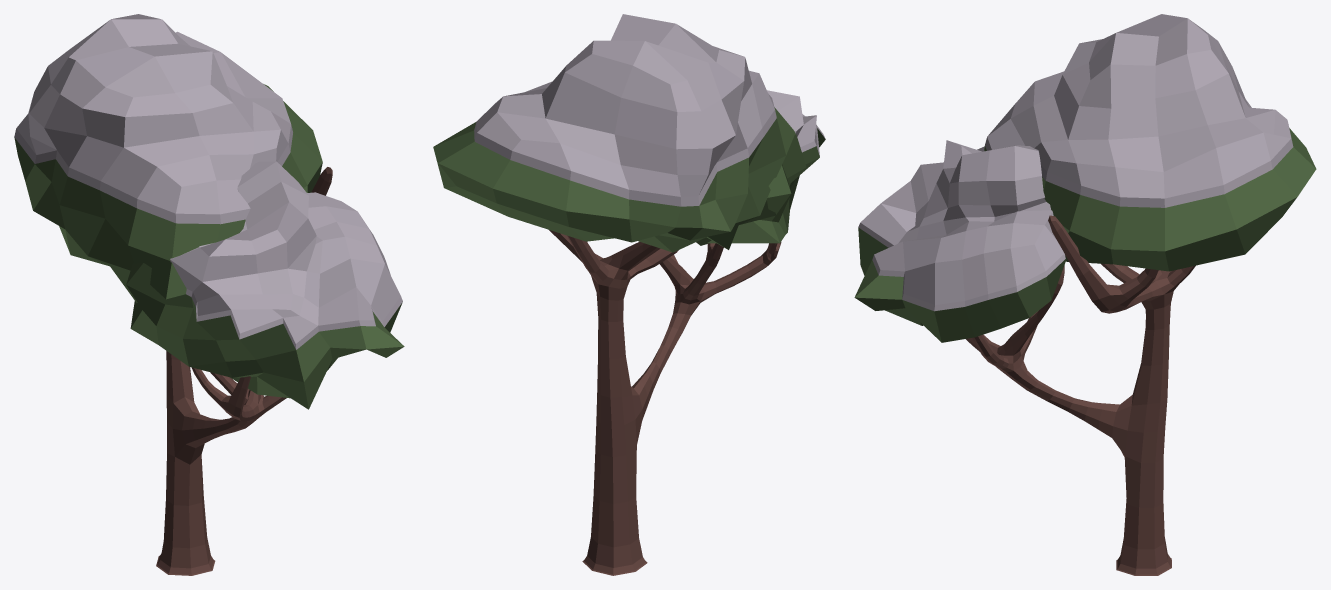
Rendered from CommonTree_Snow_2.gltf.
The picture shows the model from 3 angles, left to right: view 1: azimuth 30°, elevation 25°; view 2: azimuth 150°, elevation 25°; view 3: azimuth 270°, elevation 25°; orthographic projection. The views are drawn at different scales.
Visible parts, largest first — view 1: CommonTree_Snow_2; view 2: CommonTree_Snow_2; view 3: CommonTree_Snow_2.
Part boxes in pixels (box(x1,y1,x2,y2)): CommonTree_Snow_2: box(14, 14, 404, 575); CommonTree_Snow_2: box(433, 14, 825, 575); CommonTree_Snow_2: box(854, 14, 1316, 575).
Bounding box in the file's own units: 1.66 × 3.16 × 2.54.
